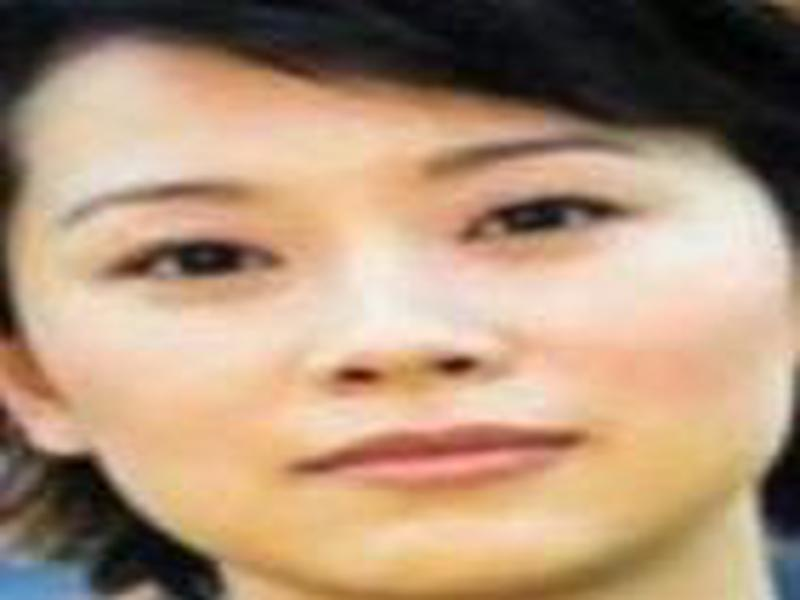without_mask: (25, 78, 746, 587)
